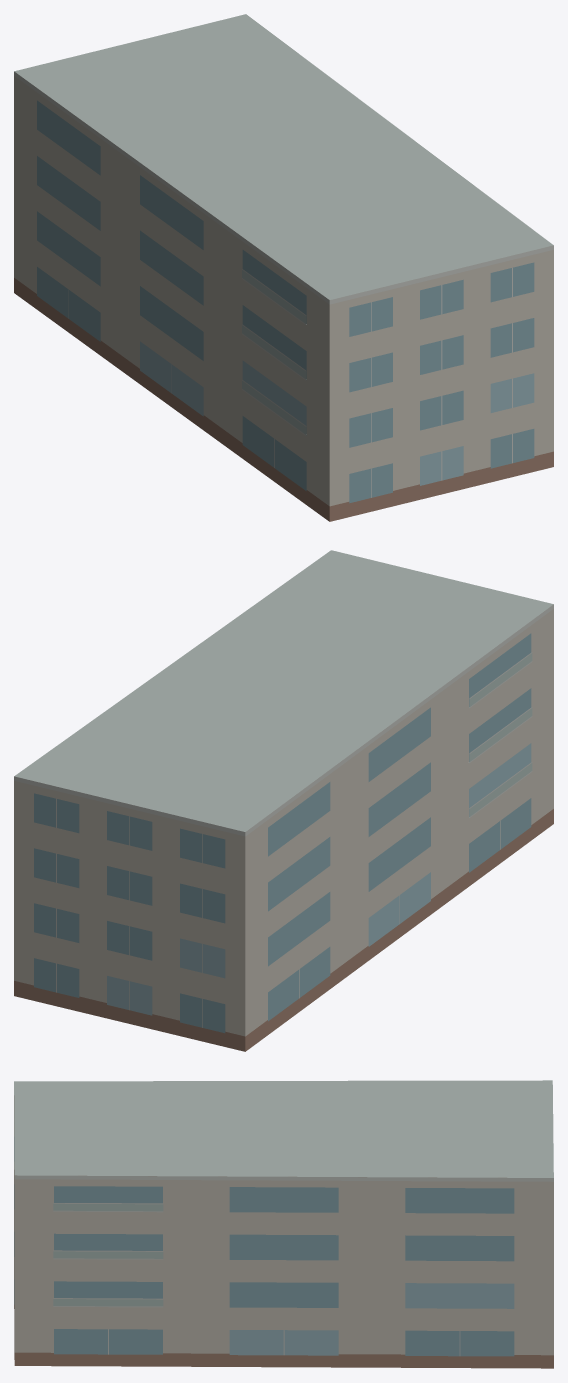
File: survey-upis-32634939.glb
3 renders of one model, top to bottom at view 1: azimuth 30°, elevation 25°; view 2: azimuth 150°, elevation 25°; view 3: azimuth 270°, elevation 25°, orthographic. The views are drawn at different scales.
Visible parts, largest first — view 1: survey-upis-32634939.tmp; view 2: survey-upis-32634939.tmp; view 3: survey-upis-32634939.tmp.
Boxes of the visible parts, x1,y1,x2,y2 form: survey-upis-32634939.tmp: (14,14,553,521); survey-upis-32634939.tmp: (14,550,553,1051); survey-upis-32634939.tmp: (14,1080,553,1368).
Bounding box in the file's own units: 13.42 × 12.2 × 31.35.
